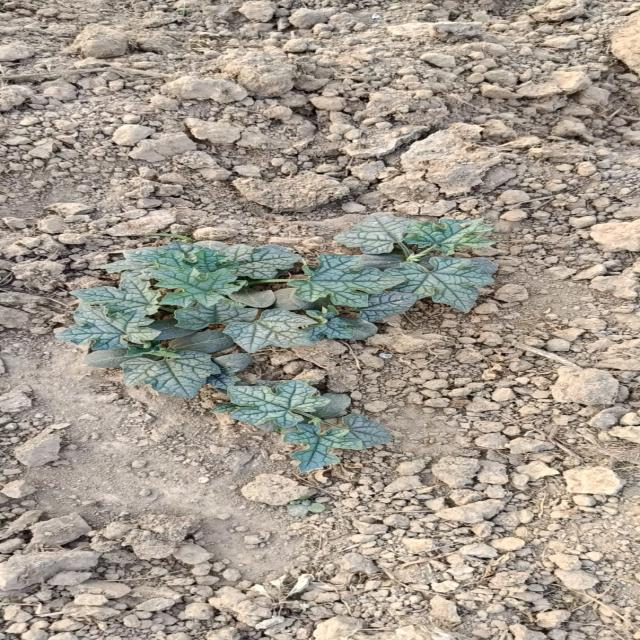plant: (54, 216, 493, 471)
